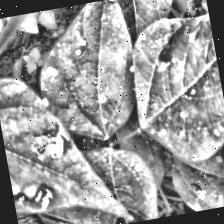Bean Rust: (0, 60, 135, 224), (28, 0, 146, 146), (131, 0, 224, 168), (55, 137, 162, 224), (166, 139, 224, 214)
